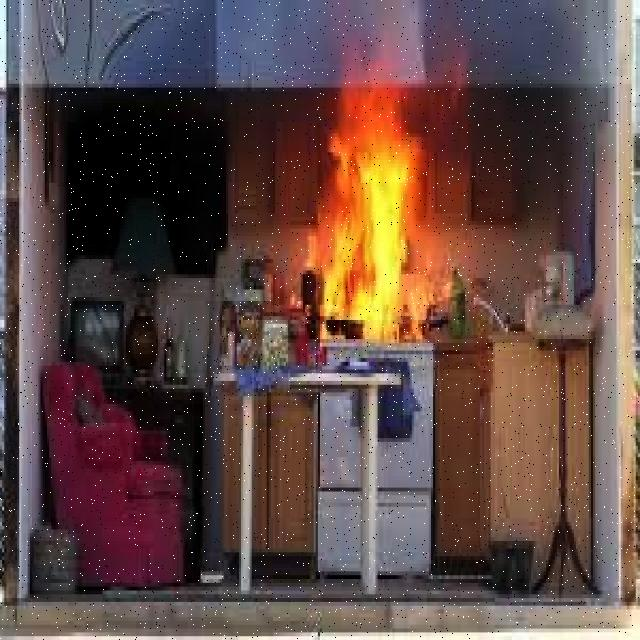fire: (312, 57, 428, 353)
